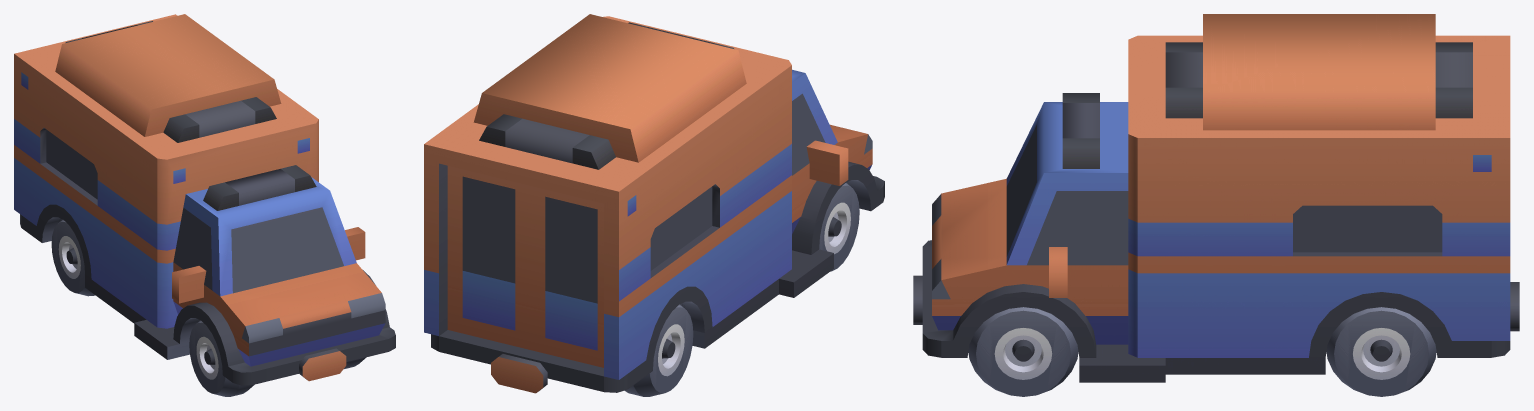
The model's file is ambulance-transformed.glb.
3 views of the same model, side by side, from view 1: azimuth 30°, elevation 25°; view 2: azimuth 150°, elevation 25°; view 3: azimuth 270°, elevation 25° (orthographic). The views are drawn at different scales.
Visible parts, largest first — view 1: body; view 2: body; view 3: body.
Part boxes in pixels (left/top/right/bottom): body: left=14, top=14, right=395, bottom=396; body: left=424, top=14, right=884, bottom=396; body: left=913, top=14, right=1519, bottom=396.
Bounding box in the file's own units: 1.5 × 1.8 × 3.25.
Materials: 1 (1 with a texture image).
